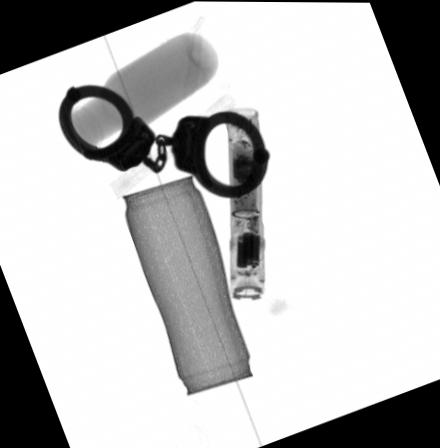Baton: (223, 104, 267, 299)
HandCuffs: (55, 81, 272, 197)
